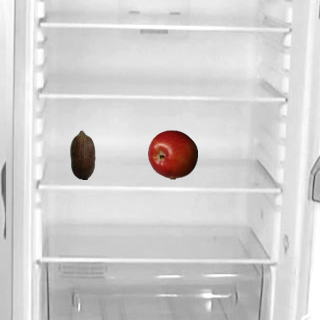Apple Braeburn: (147, 129, 197, 179)
Nut Pecan: (57, 129, 107, 179)
